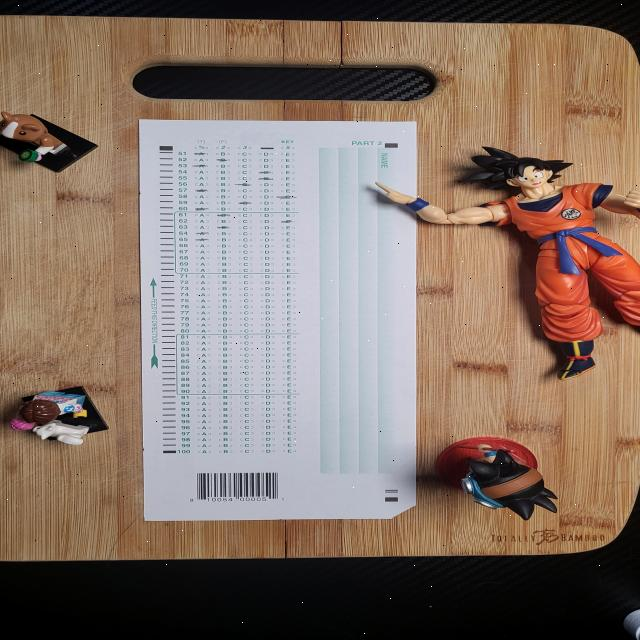scantron_back: (138, 119, 419, 522)
